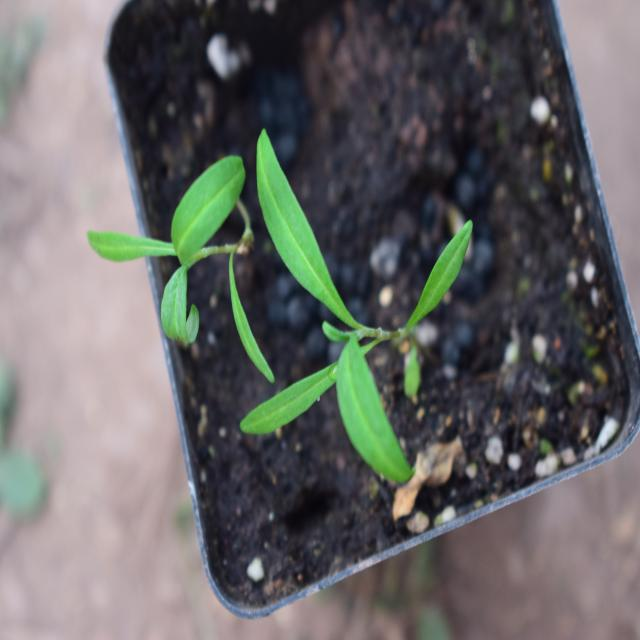white_smart_weed: (238, 108, 488, 502)
